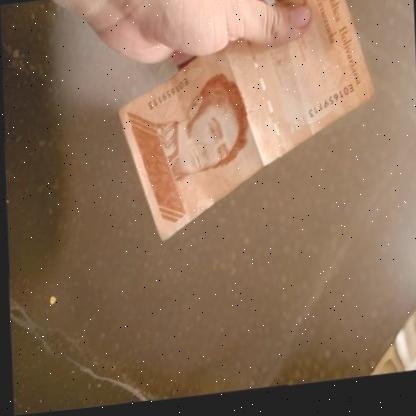twenty-front-vef: (111, 0, 377, 248)
